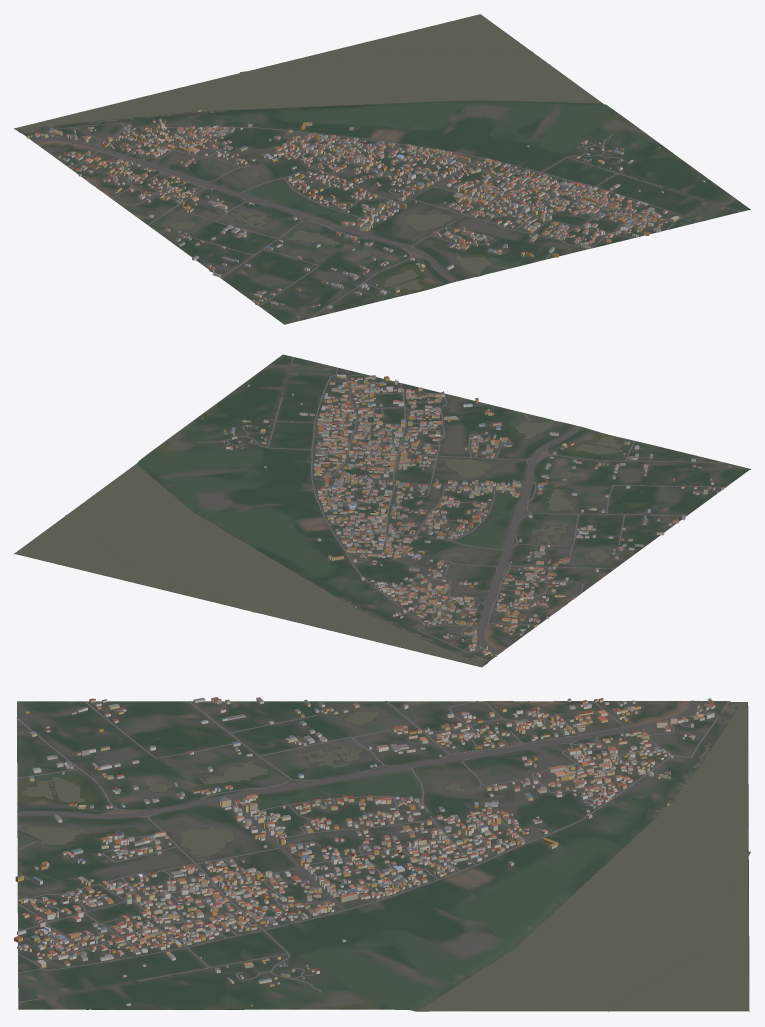
3 renders of one model, top to bottom at view 1: azimuth 30°, elevation 25°; view 2: azimuth 150°, elevation 25°; view 3: azimuth 270°, elevation 25°, orthographic. The views are drawn at different scales.
Parts seen in each view (by area): view 1: ground, water, buildings, roads; view 2: ground, water, buildings, roads; view 3: ground, water, buildings, roads.
Part boxes in pixels (bbox=[...]): ground: bbox=[14, 15, 750, 324]; water: bbox=[15, 14, 601, 290]; buildings: bbox=[26, 110, 705, 318]; roads: bbox=[21, 122, 740, 318]; ground: bbox=[14, 354, 750, 667]; water: bbox=[15, 420, 623, 666]; buildings: bbox=[201, 374, 730, 656]; roads: bbox=[197, 357, 725, 661]; ground: bbox=[17, 701, 749, 1012]; water: bbox=[19, 701, 750, 1011]; buildings: bbox=[14, 697, 715, 1006]; roads: bbox=[16, 700, 729, 1002].
Bounding box in the file's own units: 1411 × 29.74 × 1413.
